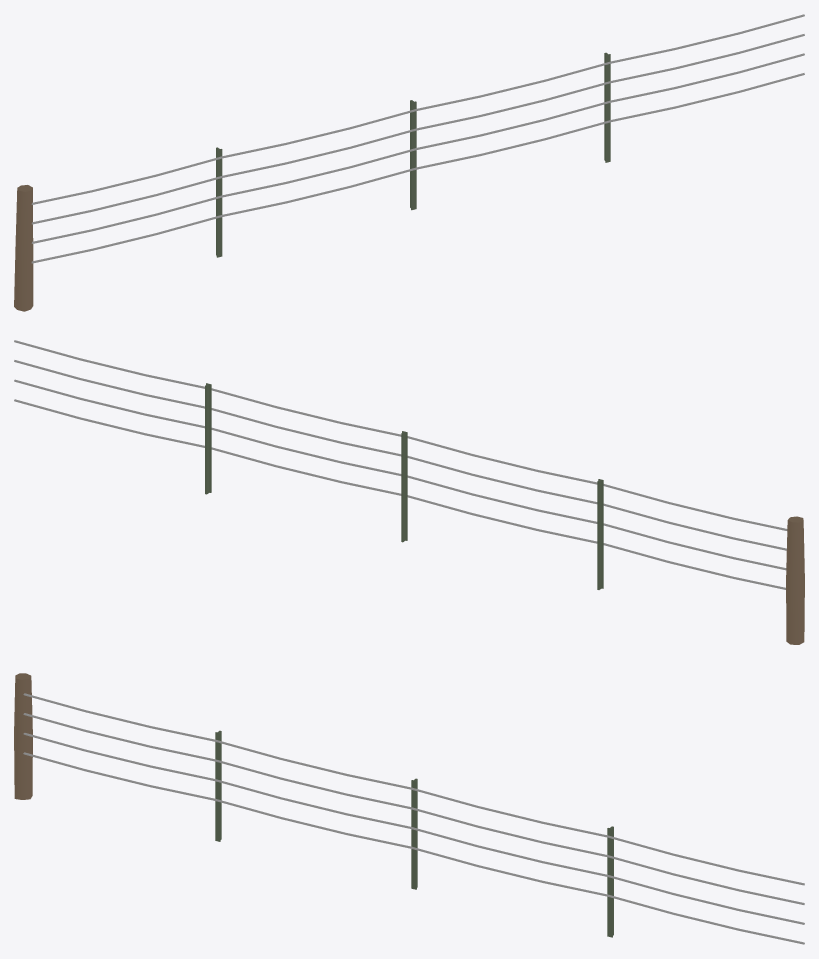
The model's file is Blender_BarbedWireFence_1.glb.
3 renders of one model, top to bottom at view 1: azimuth 30°, elevation 25°; view 2: azimuth 150°, elevation 25°; view 3: azimuth 330°, elevation 25°, orthographic.
Parts seen in each view (by area): view 1: Blender_BarbedWireFence_1; view 2: Blender_BarbedWireFence_1; view 3: Blender_BarbedWireFence_1.
Boxes of the visible parts, box(x1,y1,x2,y2) form: Blender_BarbedWireFence_1: box(14, 14, 804, 311); Blender_BarbedWireFence_1: box(14, 340, 804, 644); Blender_BarbedWireFence_1: box(14, 673, 804, 944).
Bounding box in the file's own units: 10.1 × 1.47 × 0.2172.
